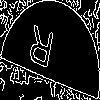R: (25, 24, 55, 79)
